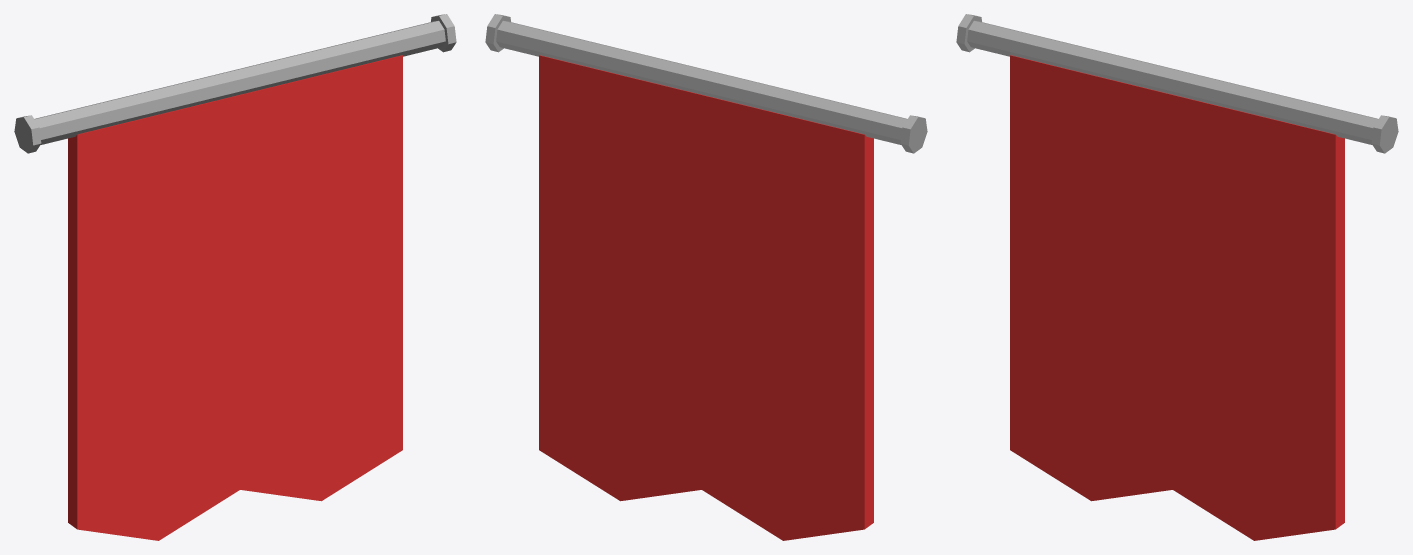
File: НавеснойФлаг1.FBX
The picture shows the model from 3 angles, left to right: view 1: azimuth 30°, elevation 25°; view 2: azimuth 150°, elevation 25°; view 3: azimuth 330°, elevation 25°; orthographic projection.
Visible parts, largest first — view 1: Полотно, Держатель; view 2: Полотно, Держатель; view 3: Полотно, Держатель.
Part boxes in pixels (x1=…): Полотно: x1=68, y1=55, x2=402, y2=540; Держатель: x1=14, y1=14, x2=456, y2=153; Полотно: x1=539, y1=55, x2=873, y2=540; Держатель: x1=485, y1=14, x2=927, y2=153; Полотно: x1=1010, y1=55, x2=1344, y2=540; Держатель: x1=956, y1=14, x2=1398, y2=153.
Size of the model in its own units: 52 by 53.05 by 4.01.
